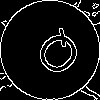Q: (25, 25, 87, 87)
